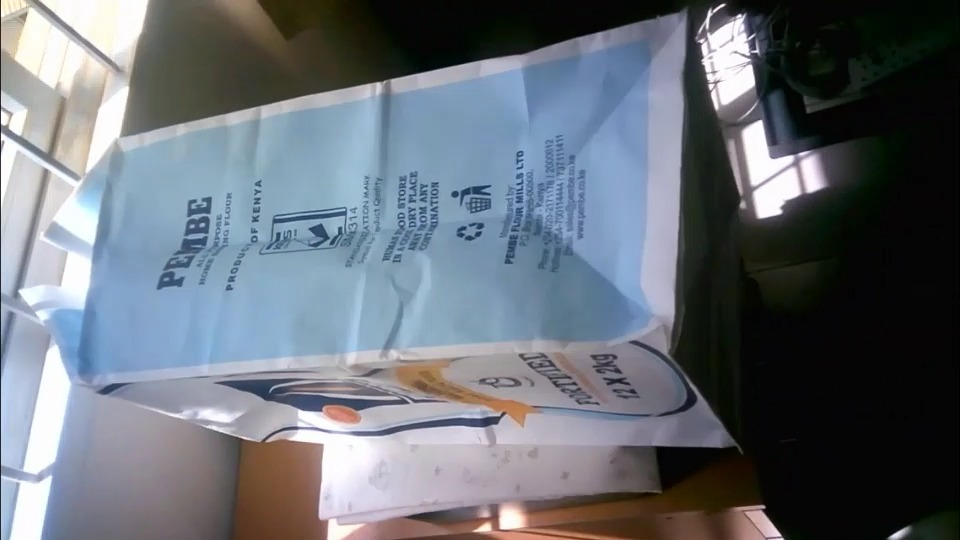wheat_flour_blue_label: (34, 13, 743, 449)
